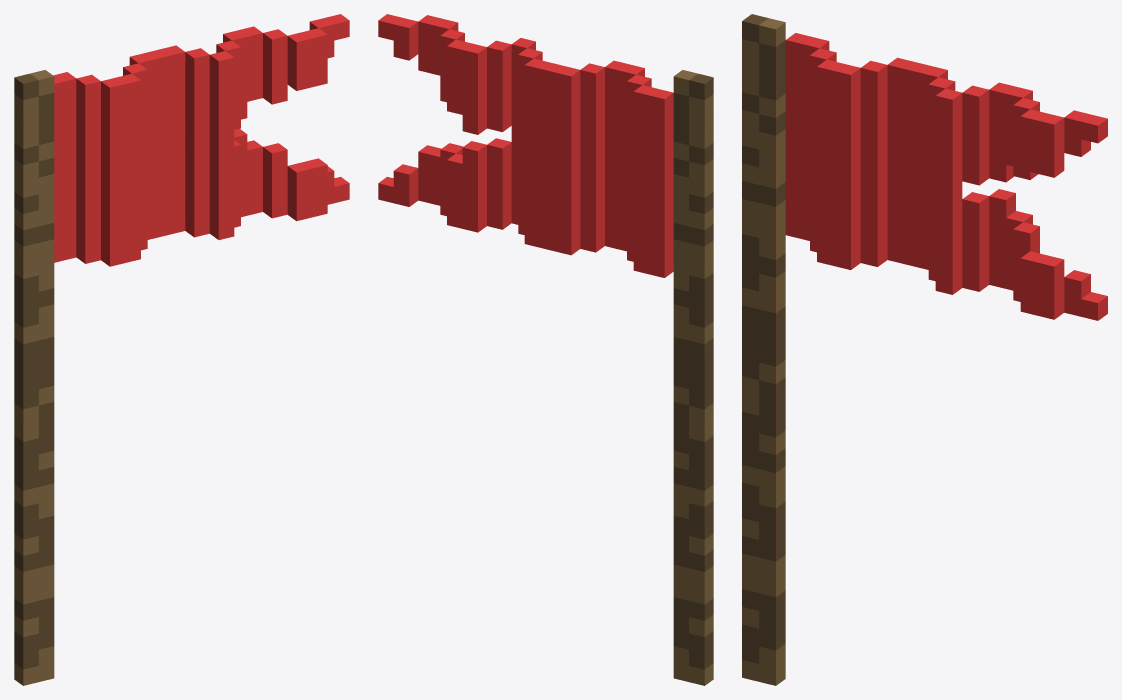
Rendered from Flag_Large_Red.glb.
3 renders of one model, left to right at view 1: azimuth 30°, elevation 25°; view 2: azimuth 150°, elevation 25°; view 3: azimuth 330°, elevation 25°, orthographic. The views are drawn at different scales.
Parts seen in each view (by area): view 1: Flag_Large_Red_Medieval_Assets-31.001; view 2: Flag_Large_Red_Medieval_Assets-31.001; view 3: Flag_Large_Red_Medieval_Assets-31.001.
Boxes of the visible parts, x1,y1,x2,y2 form: Flag_Large_Red_Medieval_Assets-31.001: (14,14,349,685); Flag_Large_Red_Medieval_Assets-31.001: (378,14,713,685); Flag_Large_Red_Medieval_Assets-31.001: (742,14,1107,685).
Bounding box in the file's own units: 2.1 × 3.7 × 0.3.
Materials: 1 (1 with a texture image).
